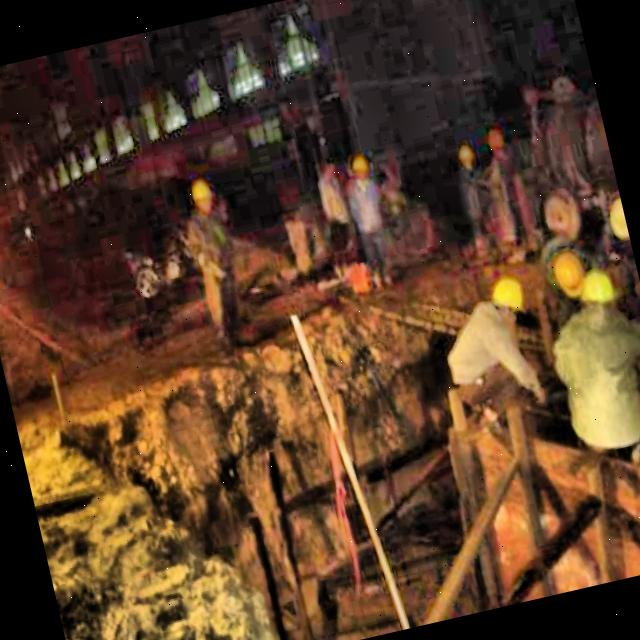helmet: (485, 266, 531, 331), (573, 262, 625, 318), (548, 248, 592, 306), (187, 174, 220, 217)
